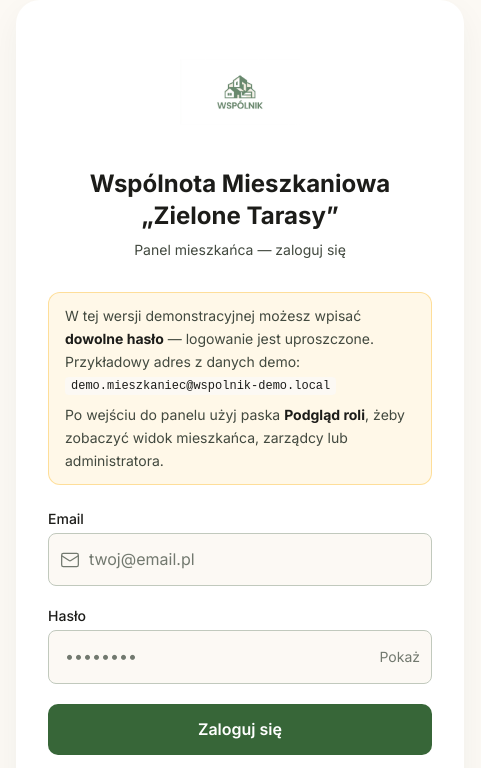
it: LoginPage › wyświetla błąd logowania
In the field labelled "Email": (240, 560) [48,533,432,586], type "bad@example.com"
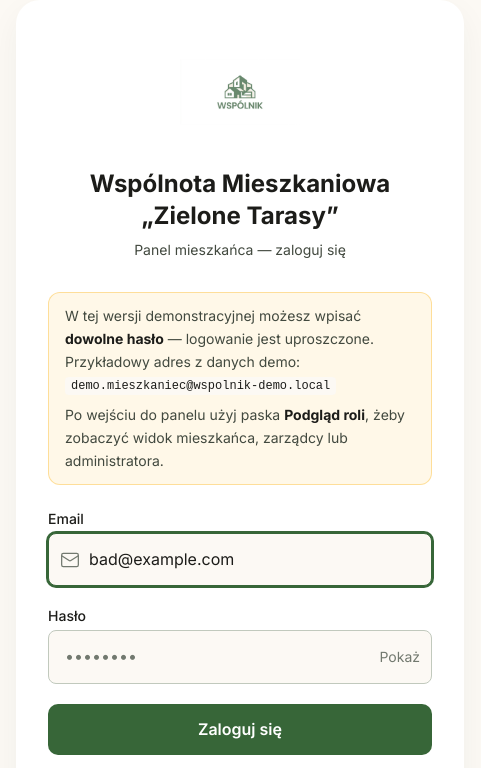
In the password field labelled "Hasło": (240, 657) [48,630,432,684], type "wrong"
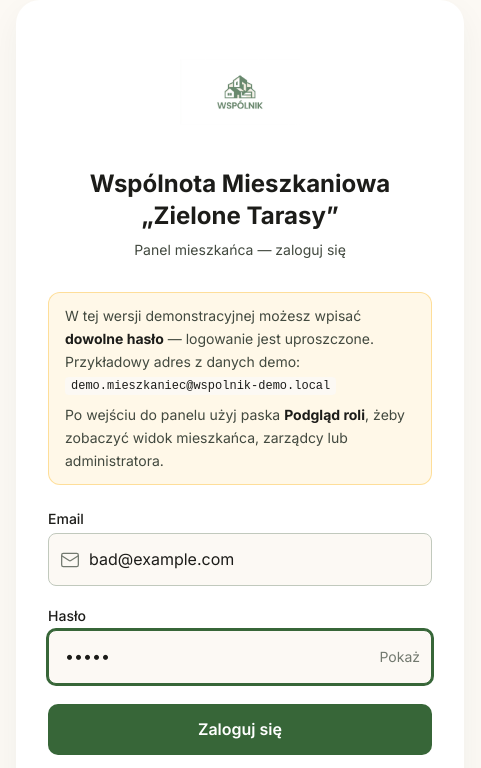
Click the button "Zaloguj się": (240, 729) [48,704,432,755]
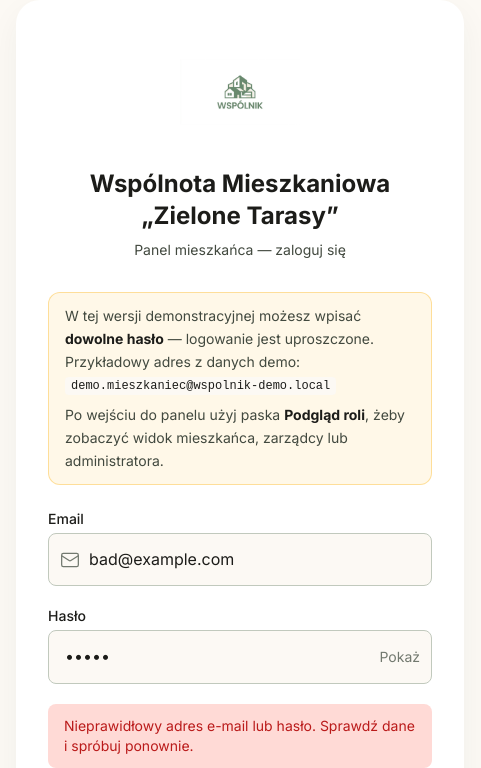
Expected: the text "Nieprawidłowy adres e-mail lub hasło. Sprawdź dane i spróbuj ponownie." is shown, [48,704,432,767]
